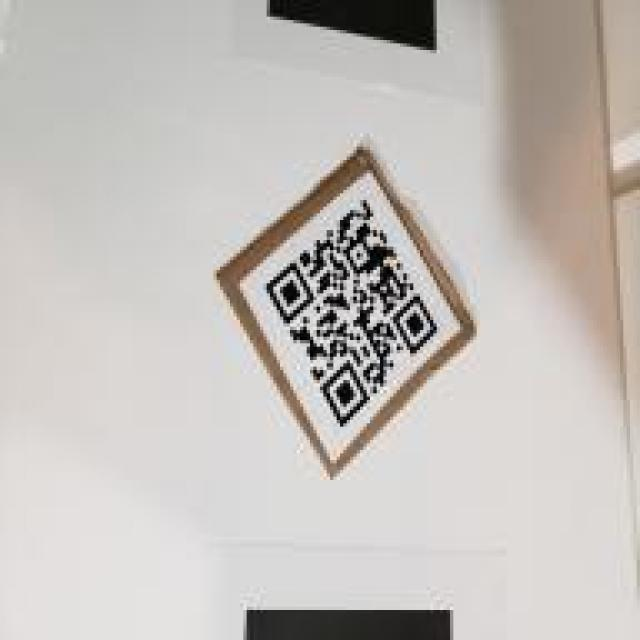qr_code: (266, 199, 438, 427)
